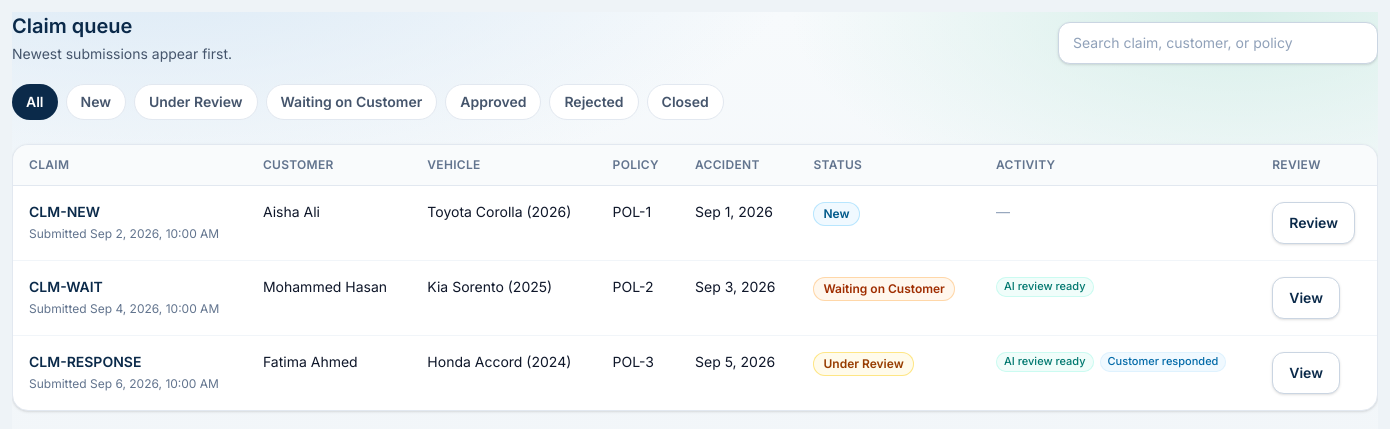
Test: ClaimsQueue › shows operational labels and filters by status
Expected: the button "New" is shown, [66,84,126,120]
Click the button "Waiting on Customer".
click(351, 102)  # box [266,84,437,120]
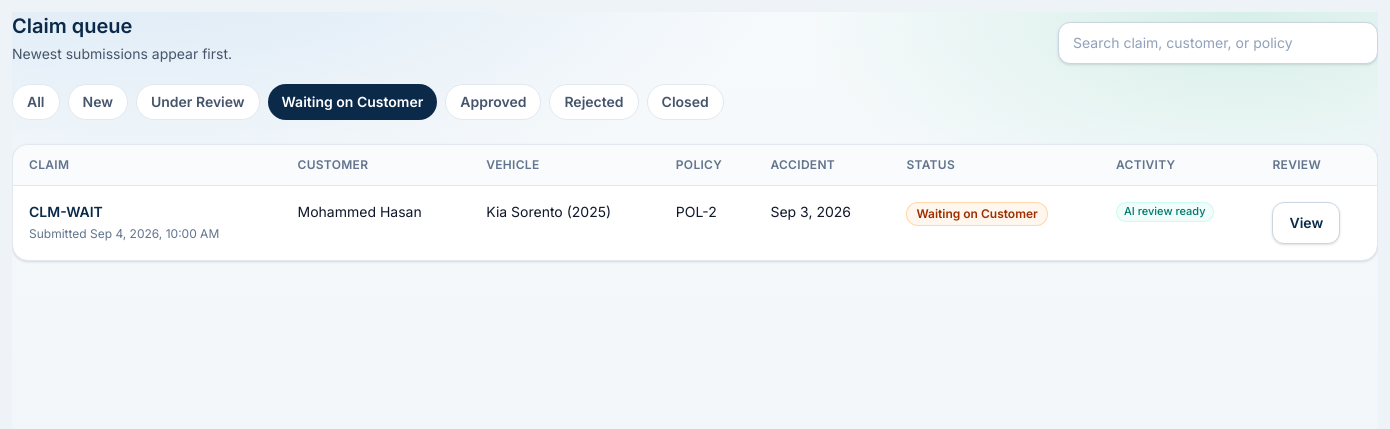
Expected: the text "CLM-WAIT" is shown, [29,203,103,220]
Expected: the text "CLM-NEW" is gone
